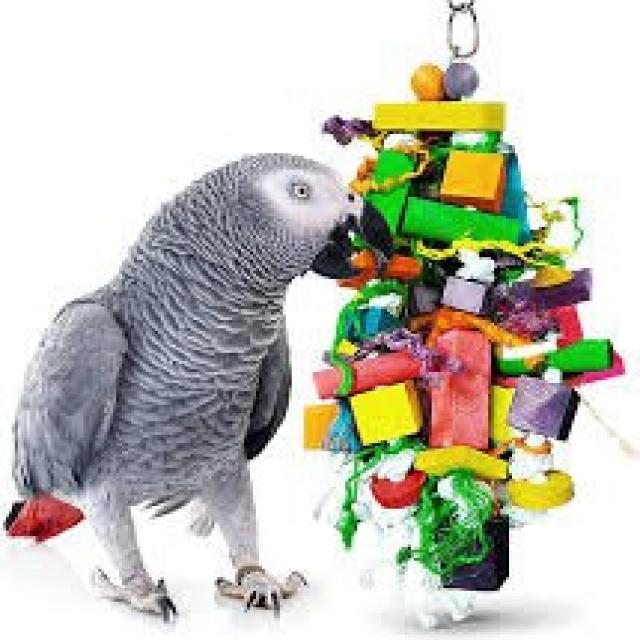parrot: (15, 153, 390, 618)
